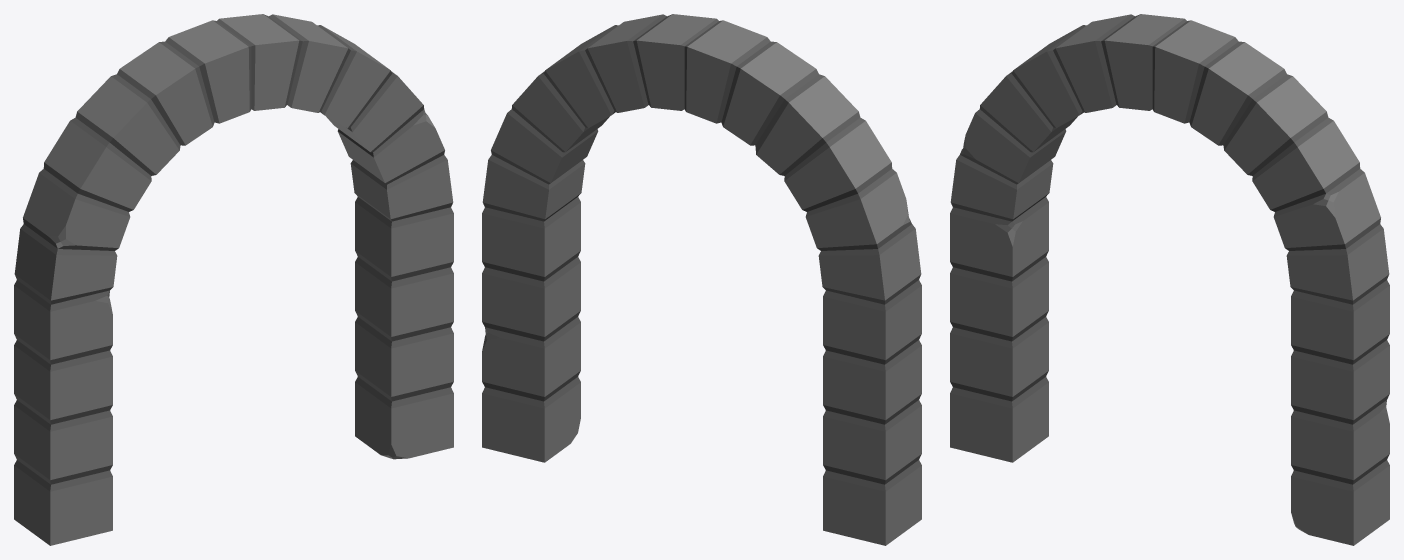
The model's file is Arch_04.fbx.
The picture shows the model from 3 angles, left to right: view 1: azimuth 30°, elevation 25°; view 2: azimuth 150°, elevation 25°; view 3: azimuth 330°, elevation 25°; orthographic projection.
Parts seen in each view (by area): view 1: Arch_04; view 2: Arch_04; view 3: Arch_04.
Part boxes in pixels (x1,y1,x2,y2): Arch_04: [14, 14, 453, 545]; Arch_04: [482, 14, 921, 545]; Arch_04: [950, 14, 1389, 545].
Bounding box in the file's own units: 221 × 236 × 34.4.
